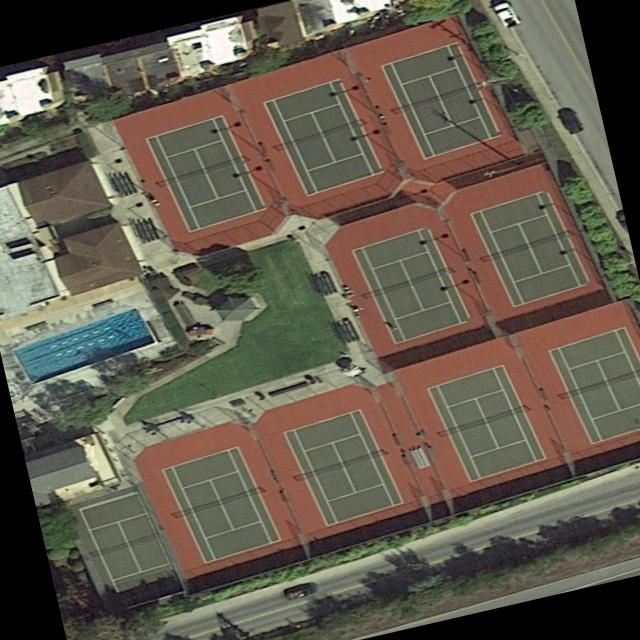small-vehicle: (489, 0, 519, 28), (555, 108, 586, 135), (284, 584, 317, 601)
